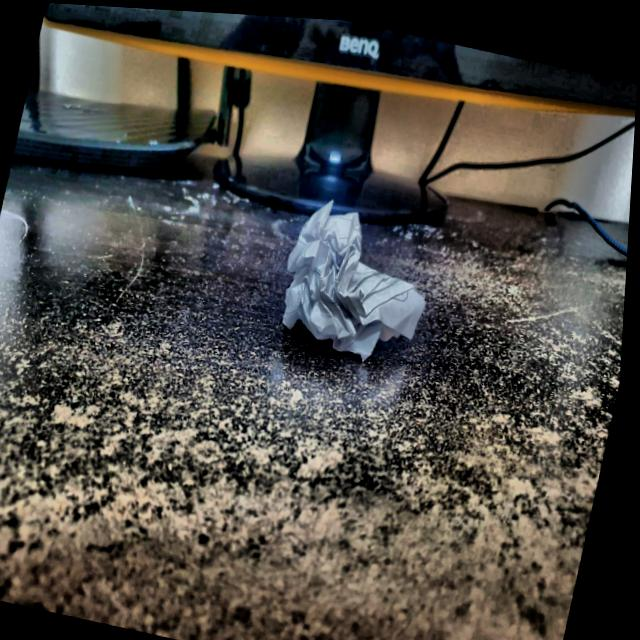Paper: (269, 187, 456, 371)
